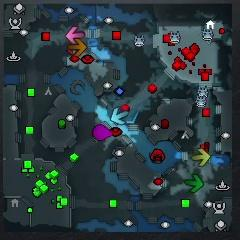p3: (92, 124, 113, 141)
x1: (66, 26, 85, 43)
x2: (191, 148, 210, 166)
x3: (111, 107, 128, 124)
x4: (184, 174, 203, 192)
x5: (69, 39, 86, 57)
